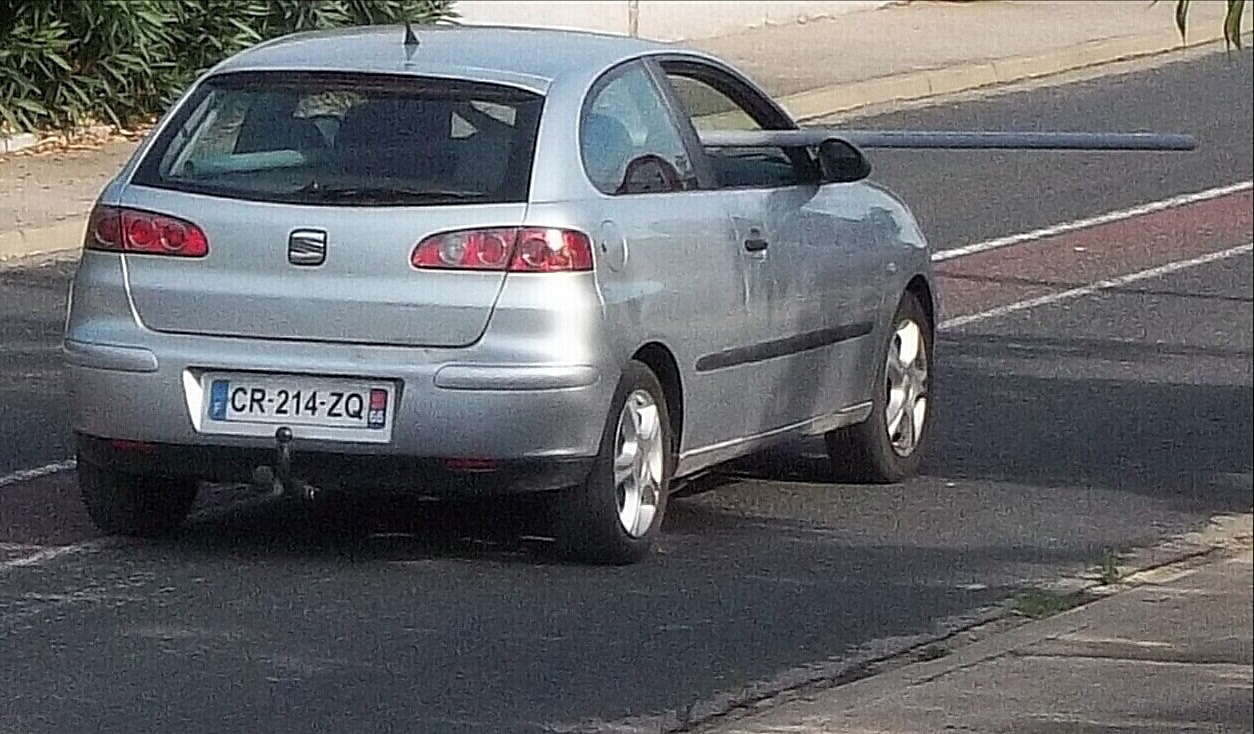licence plate: (207, 376, 392, 432)
